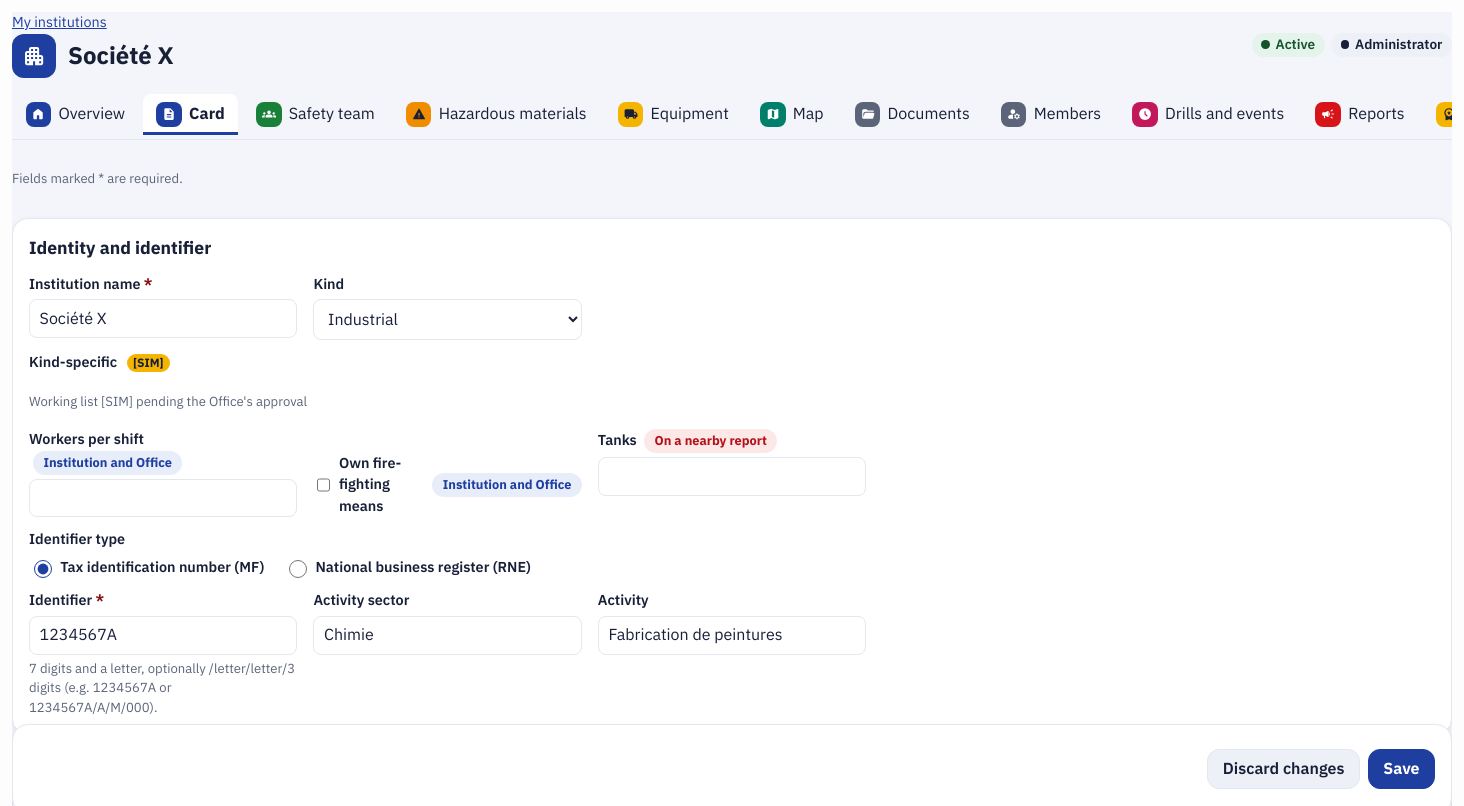
Test: card editor: optimistic version › warns that renaming an active institution sends it back to review
This screenshot has width=1464, height=806.
Replace the text in the field labelled "Institution name *" with "Société X SA" at (163, 318), box x1=29 y1=299 x2=297 y2=338
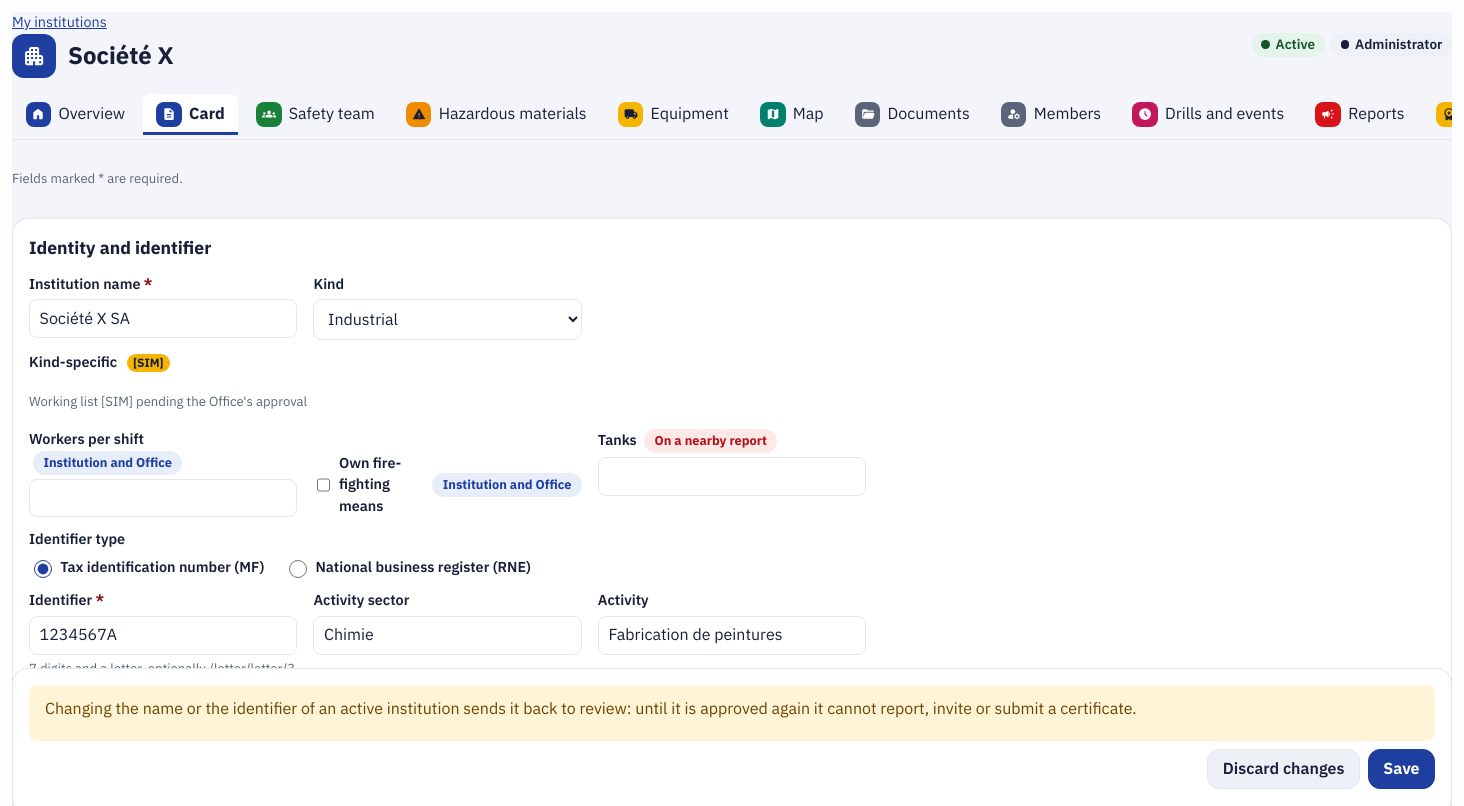
Now the text "sends it back to review" is shown, box x1=45 y1=697 x2=1137 y2=721
